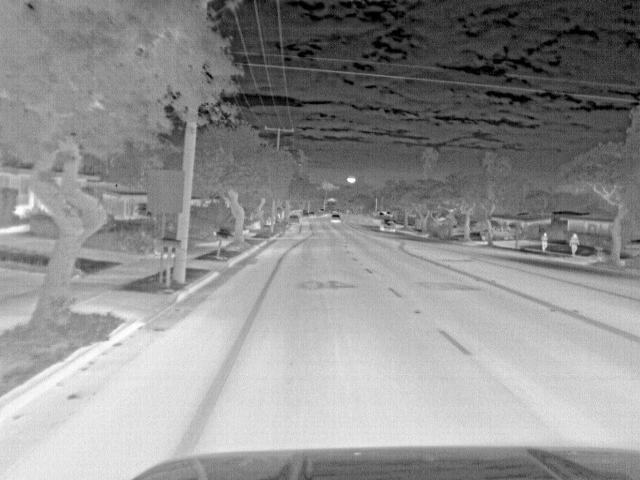car: (379, 220, 397, 234), (326, 212, 342, 223), (288, 215, 301, 226)
person: (567, 232, 581, 257), (536, 229, 551, 250)
